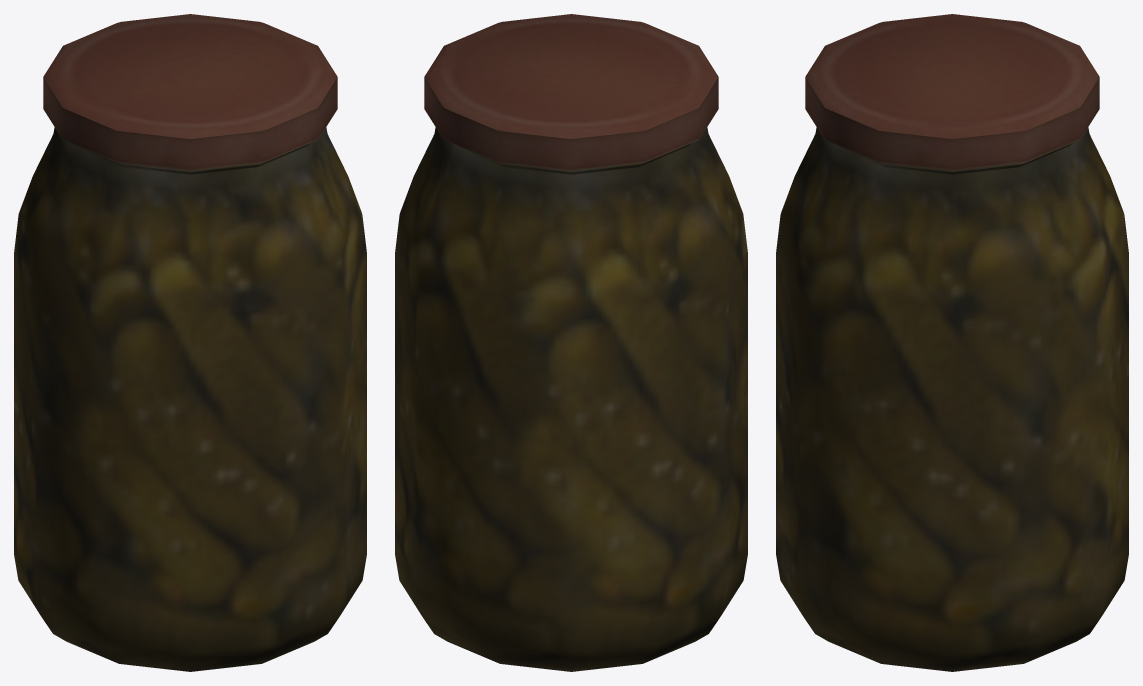
File: pickles_jar_mp_1_medium.obj
3 views of the same model, side by side, from view 1: azimuth 30°, elevation 25°; view 2: azimuth 150°, elevation 25°; view 3: azimuth 270°, elevation 25° (orthographic).
Visible parts, largest first — view 1: pickles_jar_mp_1_medium; view 2: pickles_jar_mp_1_medium; view 3: pickles_jar_mp_1_medium.
Part boxes in pixels (x1=…): pickles_jar_mp_1_medium: x1=14, y1=14, x2=366, y2=671; pickles_jar_mp_1_medium: x1=395, y1=14, x2=747, y2=671; pickles_jar_mp_1_medium: x1=776, y1=14, x2=1128, y2=671.
Size of the model in its own units: 0.1455 by 0.2453 by 0.1455.
